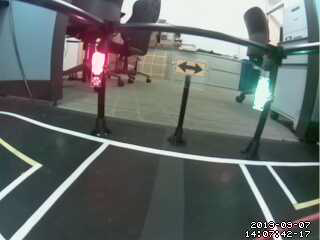Left_Right_sign: (173, 58, 210, 77)
Traffic_light_green: (252, 75, 272, 113)
Traffic_light_red: (89, 48, 106, 92)
